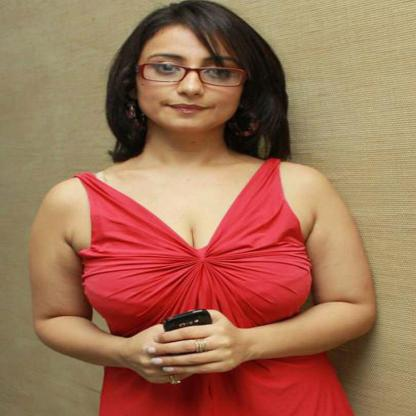long-hair: (93, 127, 296, 160)
